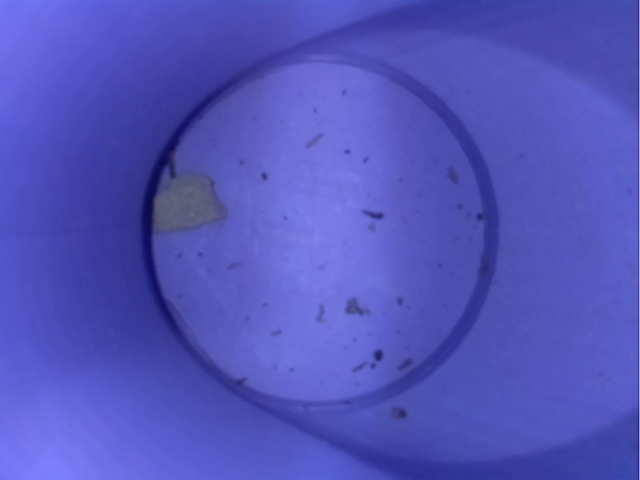caillou: (141, 156, 236, 248)
